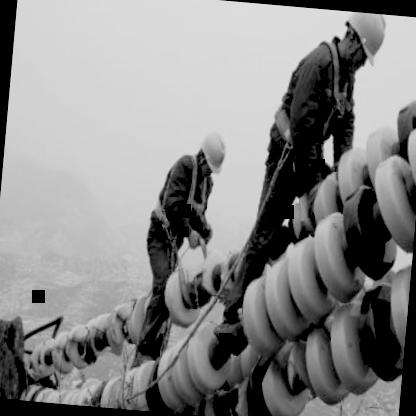helmet: (330, 10, 395, 78), (194, 122, 231, 186)
